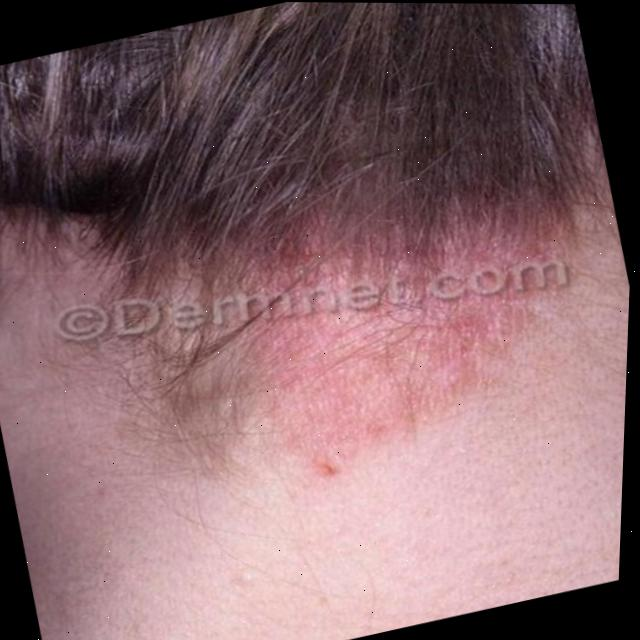Eczema: (89, 160, 564, 531)
